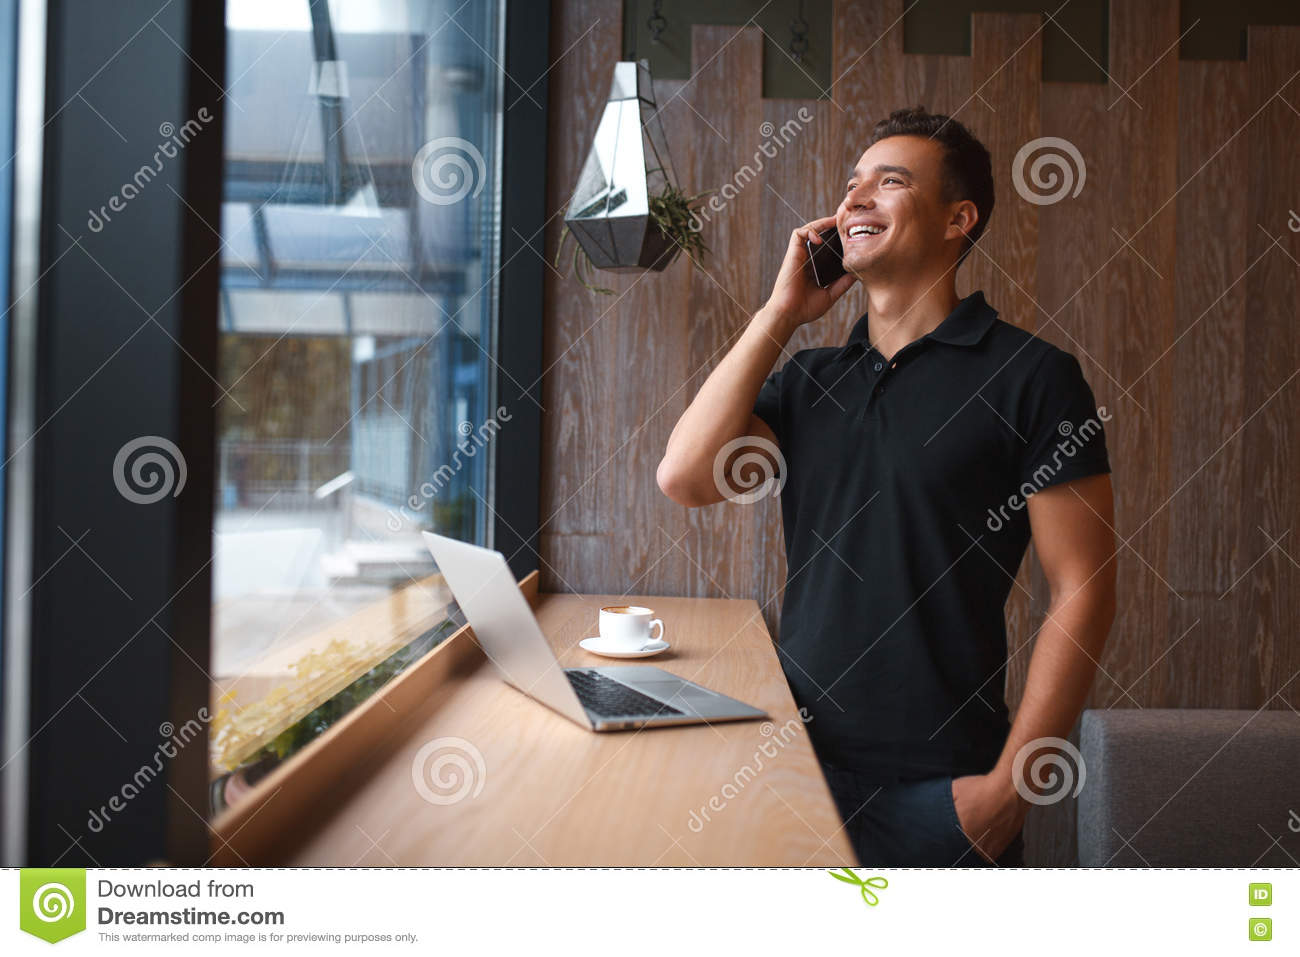phone: (805, 215, 844, 292)
talk: (767, 159, 923, 331)
